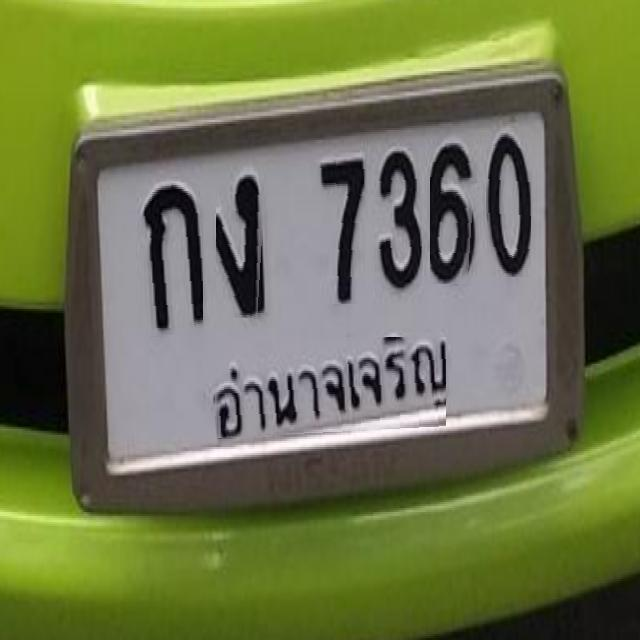0: (482, 125, 540, 277)
3: (373, 146, 426, 294)
6: (428, 140, 475, 291)
7: (315, 157, 367, 305)
A01: (141, 179, 208, 330)
A07: (213, 169, 274, 325)
ACR: (190, 314, 466, 456)
